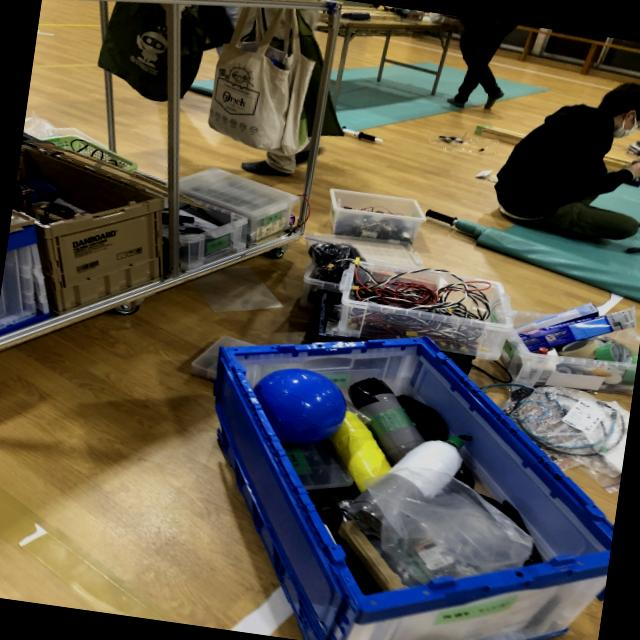blue_ball: (243, 364, 354, 458)
